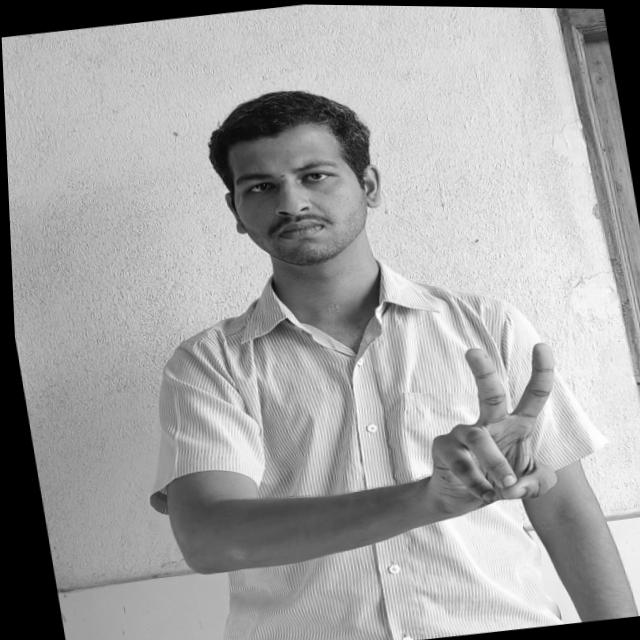Victory: (407, 334, 581, 513)
